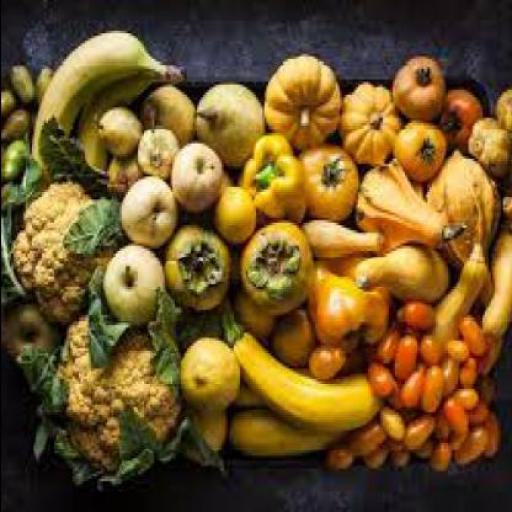biodegradable: (34, 302, 196, 487), (12, 115, 122, 351), (31, 28, 186, 174), (218, 300, 375, 428), (359, 156, 467, 251), (74, 69, 167, 159), (429, 148, 495, 269), (267, 51, 343, 148), (242, 220, 316, 313), (36, 108, 113, 194), (436, 240, 496, 346), (198, 77, 264, 169), (353, 241, 451, 302), (227, 406, 347, 454), (240, 134, 306, 220), (166, 223, 230, 307), (343, 78, 404, 164), (106, 239, 167, 322), (180, 336, 245, 410), (312, 271, 376, 343), (300, 141, 358, 220), (2, 300, 61, 368), (86, 272, 128, 366), (125, 174, 179, 246), (173, 138, 225, 210), (304, 214, 388, 256), (65, 197, 122, 258), (394, 54, 447, 118), (142, 82, 196, 143), (273, 304, 320, 368), (485, 219, 511, 331), (177, 407, 229, 463), (398, 120, 449, 177), (2, 200, 29, 306), (439, 84, 483, 148), (469, 114, 511, 175), (138, 122, 182, 176), (98, 105, 144, 156), (218, 184, 257, 241), (336, 412, 388, 454), (238, 294, 278, 336), (180, 307, 222, 345), (457, 420, 492, 462), (377, 312, 406, 361), (310, 343, 351, 376), (478, 327, 508, 372), (2, 102, 32, 147), (110, 153, 139, 198), (192, 410, 226, 448), (363, 289, 391, 333), (2, 135, 29, 180), (394, 330, 420, 376), (12, 56, 37, 103), (402, 294, 436, 328), (404, 410, 436, 445), (369, 359, 398, 394), (463, 312, 487, 354), (400, 366, 425, 404), (422, 363, 444, 405), (382, 397, 406, 435), (480, 409, 500, 454), (420, 330, 446, 364), (450, 378, 482, 404), (430, 438, 455, 470), (441, 352, 459, 394), (367, 440, 394, 466), (343, 345, 367, 374), (497, 86, 511, 134), (38, 62, 56, 97), (416, 433, 438, 461), (449, 400, 469, 430), (330, 440, 352, 466), (2, 86, 19, 118), (447, 335, 469, 359), (463, 356, 480, 386), (481, 368, 496, 400), (2, 182, 19, 208), (449, 428, 469, 450), (394, 440, 413, 462), (441, 404, 453, 435), (500, 181, 510, 218), (472, 400, 490, 414), (416, 180, 426, 199), (225, 169, 232, 182)
